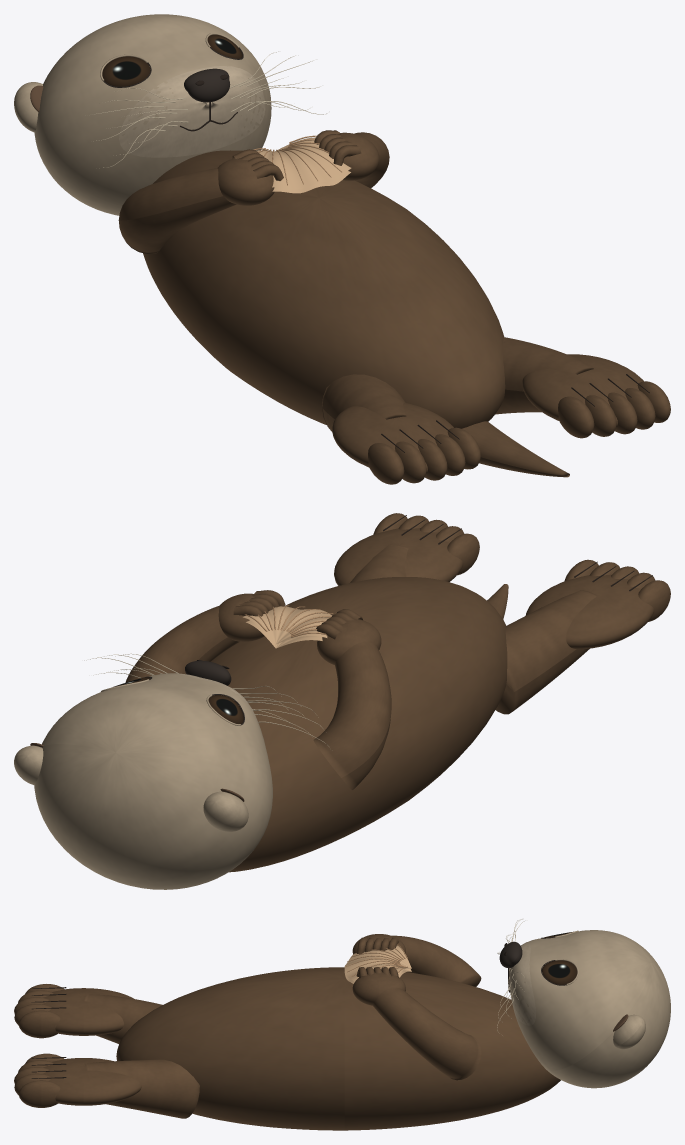
File: sea-otter-adult.glb
The picture shows the model from 3 angles, top to bottom: view 1: azimuth 30°, elevation 25°; view 2: azimuth 150°, elevation 25°; view 3: azimuth 270°, elevation 25°; orthographic projection. The views are drawn at different scales.
Parts seen in each view (by area): view 1: Continuous sea otter torso, Furry face ears and sensory whiskers, Hindpaw_R furry limb and five toes, Hindpaw_L furry limb and five toes, Forepaw_L furry limb and five toes, Held scallop shell, Forepaw_R furry limb and five toes, Short tapered sea otter tail, Small recessed corneal eye; view 2: Continuous sea otter torso, Furry face ears and sensory whiskers, Hindpaw_L furry limb and five toes, Forepaw_L furry limb and five toes, Hindpaw_R furry limb and five toes, Forepaw_R furry limb and five toes, Held scallop shell, Small recessed corneal eye; view 3: Continuous sea otter torso, Furry face ears and sensory whiskers, Hindpaw_R furry limb and five toes, Forepaw_R furry limb and five toes, Hindpaw_L furry limb and five toes, Forepaw_L furry limb and five toes, Held scallop shell, Small recessed corneal eye.
Boxes of the visible parts, box(x1,y1,x2,y2) form: Continuous sea otter torso: box(143, 150, 505, 428); Furry face ears and sensory whiskers: box(14, 14, 327, 215); Hindpaw_R furry limb and five toes: box(495, 337, 670, 438); Hindpaw_L furry limb and five toes: box(322, 374, 480, 484); Forepaw_L furry limb and five toes: box(118, 149, 283, 253); Held scallop shell: box(253, 135, 351, 193); Forepaw_R furry limb and five toes: box(314, 130, 389, 188); Short tapered sea otter tail: box(462, 421, 569, 477); Small recessed corneal eye: box(102, 56, 150, 86); Continuous sea otter torso: box(211, 577, 507, 872); Furry face ears and sensory whiskers: box(14, 653, 329, 889); Hindpaw_L furry limb and five toes: box(495, 559, 670, 714); Forepaw_L furry limb and five toes: box(313, 609, 391, 789); Hindpaw_R furry limb and five toes: box(334, 513, 479, 585); Forepaw_R furry limb and five toes: box(125, 590, 285, 682); Held scallop shell: box(243, 605, 333, 648); Small recessed corneal eye: box(208, 695, 243, 723); Continuous sea otter torso: box(116, 967, 560, 1130); Furry face ears and sensory whiskers: box(497, 919, 670, 1088); Hindpaw_R furry limb and five toes: box(14, 1053, 199, 1118); Forepaw_R furry limb and five toes: box(352, 967, 481, 1080); Hindpaw_L furry limb and five toes: box(14, 984, 162, 1043); Forepaw_L furry limb and five toes: box(352, 934, 481, 986); Held scallop shell: box(344, 944, 411, 983); Small recessed corneal eye: box(542, 960, 577, 984).
Size of the model in its own units: 1.17 by 0.9038 by 3.02.
10 materials, 4 textured.
